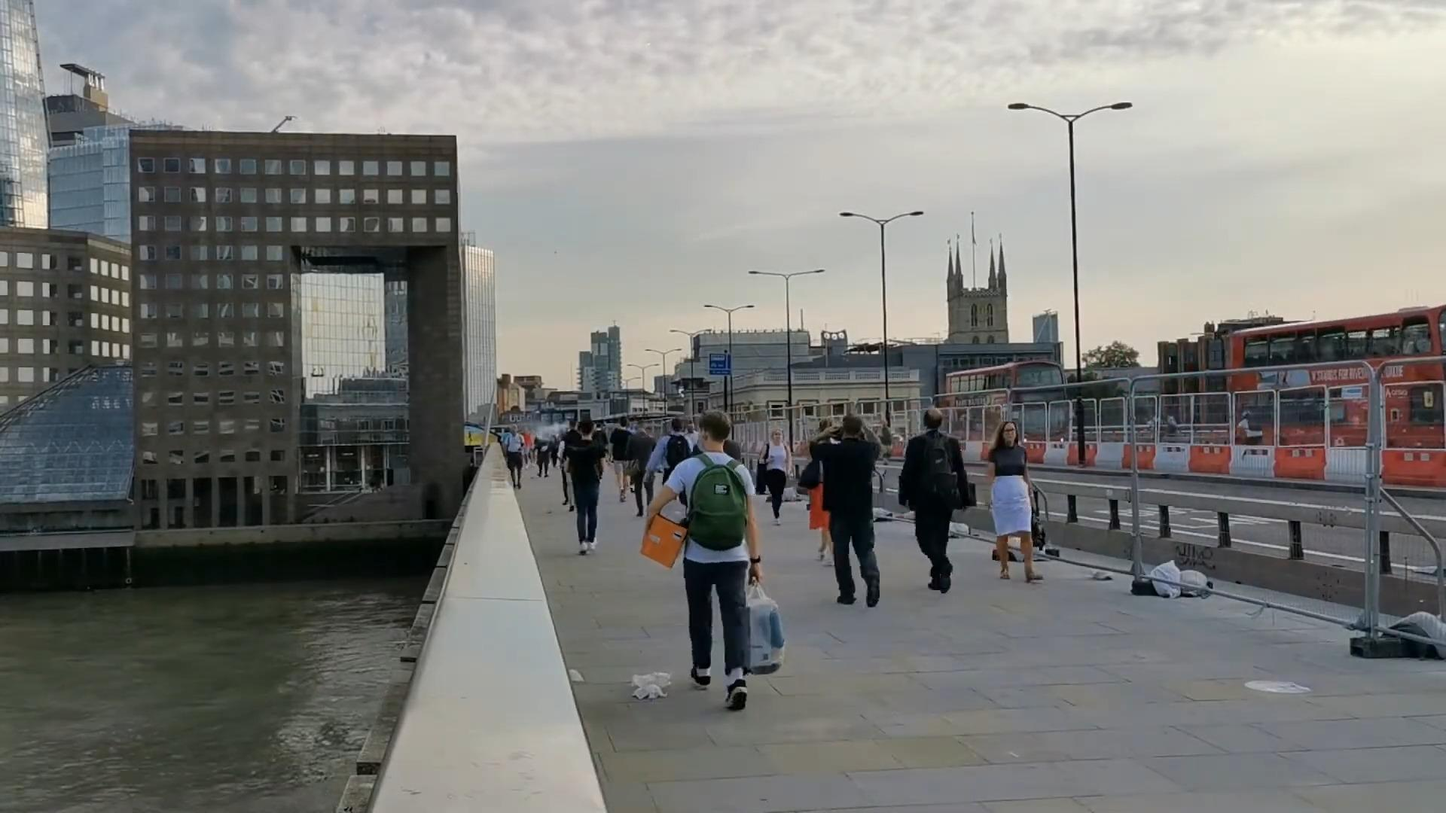no-helmet: (697, 409, 731, 452), (995, 421, 1019, 442), (842, 413, 863, 437), (923, 408, 943, 429), (577, 420, 595, 437), (669, 418, 684, 433), (618, 416, 629, 427)
